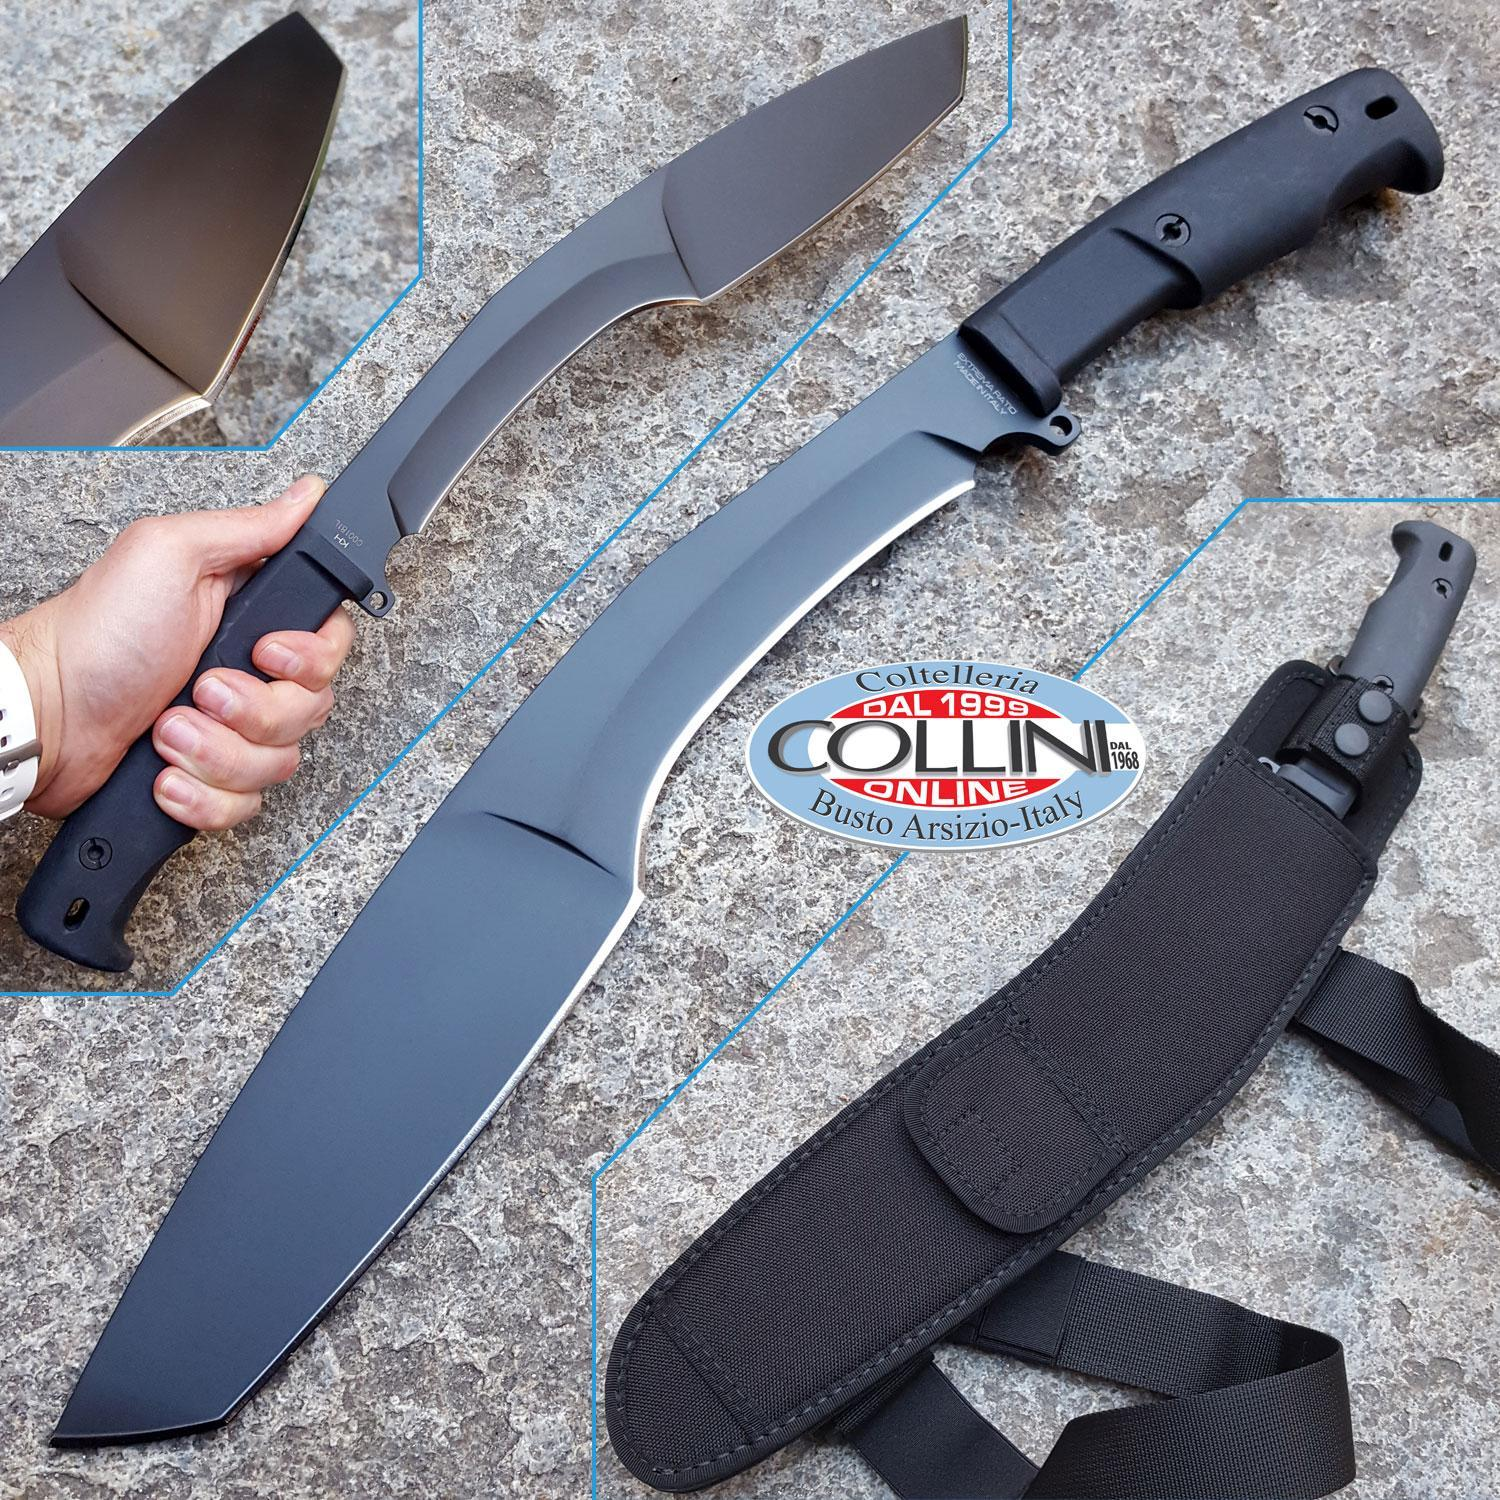facao: (55, 69, 1442, 1444), (15, 21, 964, 977)
